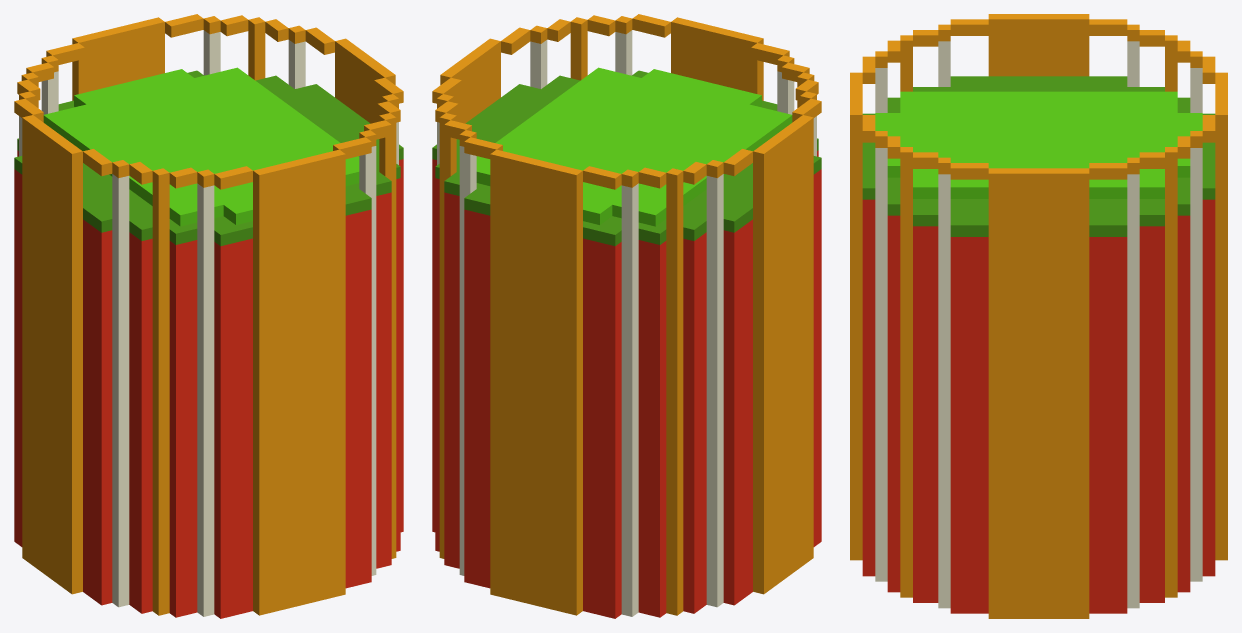
File: tower1_top.obj
3 renders of one model, left to right at view 1: azimuth 30°, elevation 25°; view 2: azimuth 150°, elevation 25°; view 3: azimuth 270°, elevation 25°, orthographic.
Bounding box in the file's own units: 3 × 3.9 × 3.
Materials: 1 (1 with a texture image).
